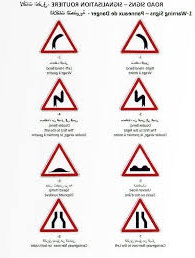Double_bend_left: (120, 77, 160, 111)
Double_bend_right: (40, 78, 80, 111)
